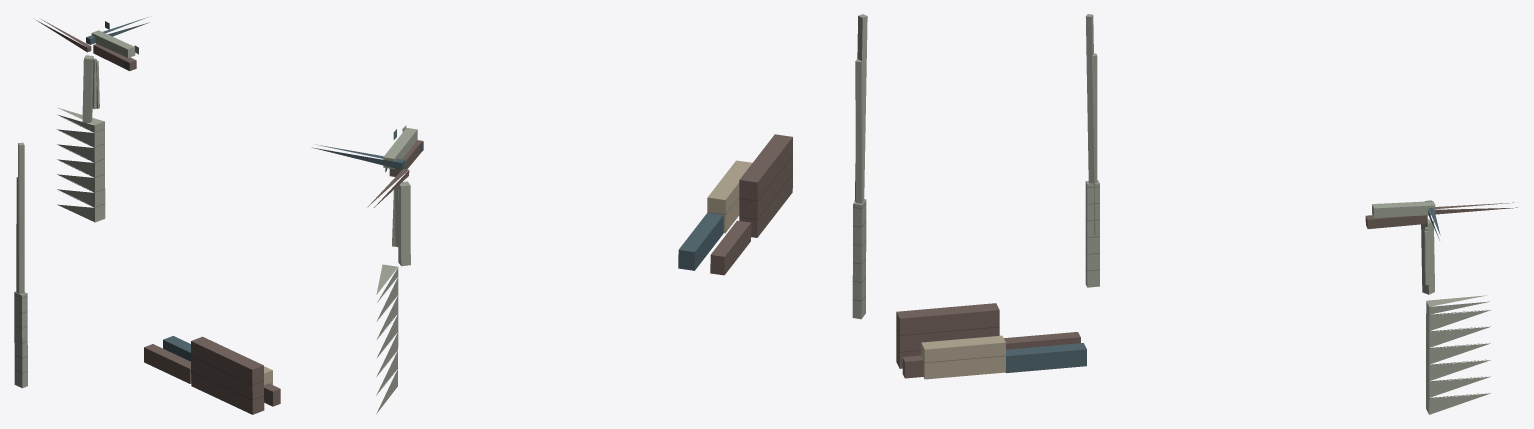
File: terminal-28---126_-19.glb
The picture shows the model from 3 angles, left to right: view 1: azimuth 30°, elevation 25°; view 2: azimuth 150°, elevation 25°; view 3: azimuth 270°, elevation 25°; orthographic projection. The views are drawn at different scales.
Parts seen in each view (by area): view 1: measured-industrial; view 2: measured-industrial; view 3: measured-industrial.
Boxes of the visible parts, bbox=[...] form: measured-industrial: bbox=[14, 17, 280, 414]; measured-industrial: bbox=[312, 14, 867, 414]; measured-industrial: bbox=[896, 14, 1518, 414].
Size of the model in its own units: 58.61 by 46.97 by 97.78.
